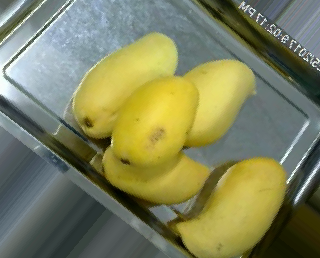Mango: (60, 22, 182, 139), (168, 147, 291, 253), (112, 73, 205, 173), (167, 48, 257, 150), (91, 138, 216, 210)
